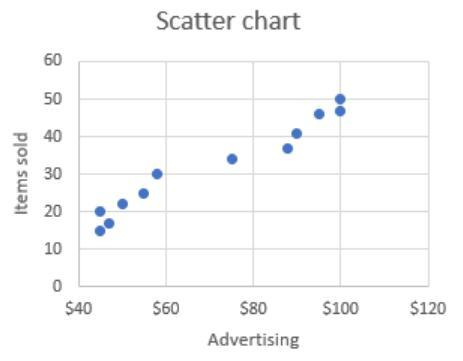axis: (73, 282, 434, 293), (74, 58, 87, 294)
point: (289, 126, 304, 142), (136, 187, 152, 201), (151, 167, 165, 183), (224, 152, 240, 166), (93, 203, 107, 218), (92, 225, 108, 238), (114, 198, 130, 210), (102, 215, 115, 229), (280, 143, 295, 155)
